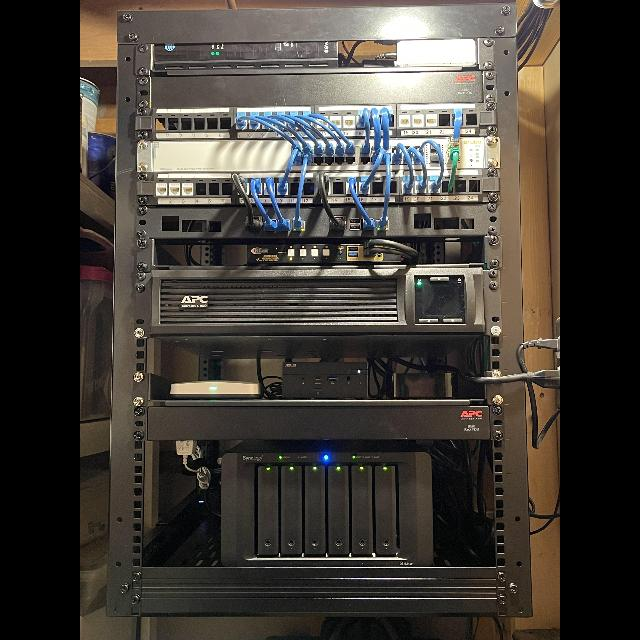Server: (114, 8, 536, 626)
